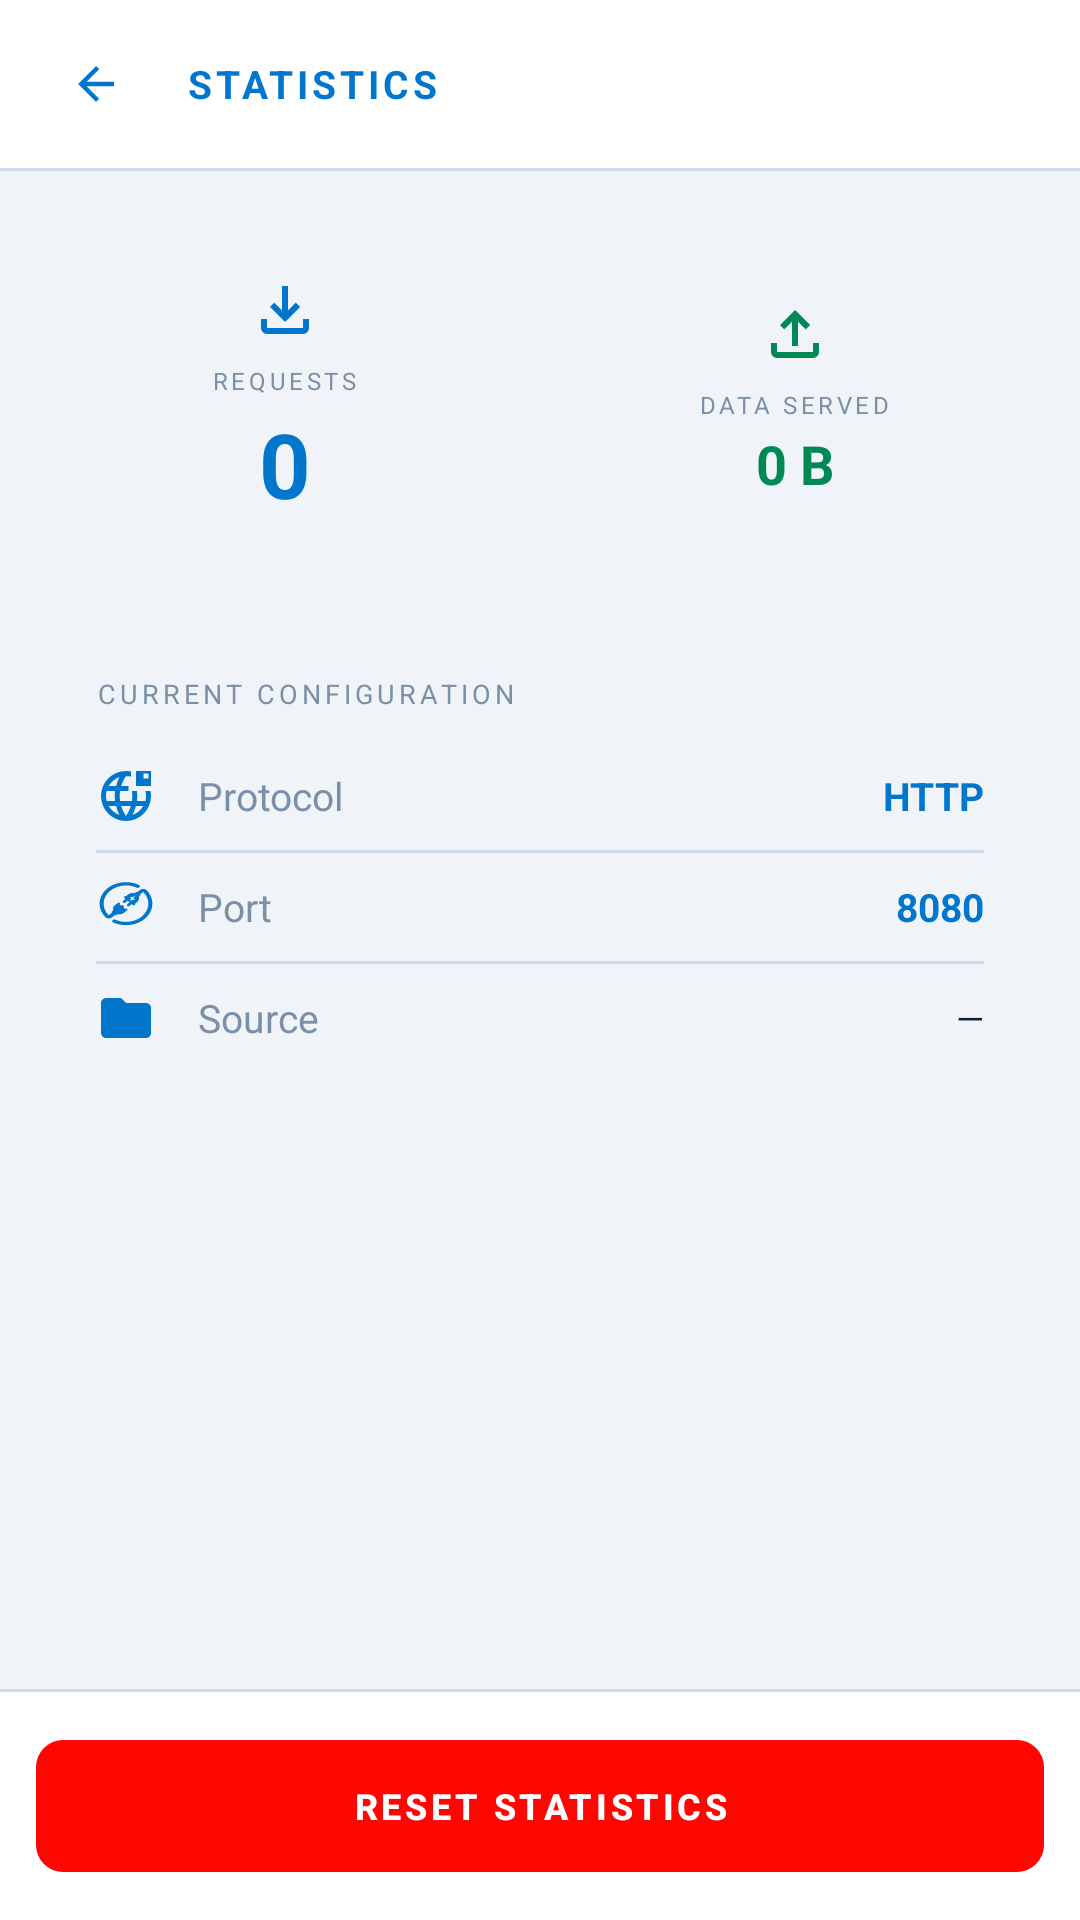

Where to tap for icons on this 1080 × 1920 app screen, as (x,y):
back: (96,84)
bring your own ip: (126,796)
download: (285,310)
folder: (126,1018)
upload: (795,334)
